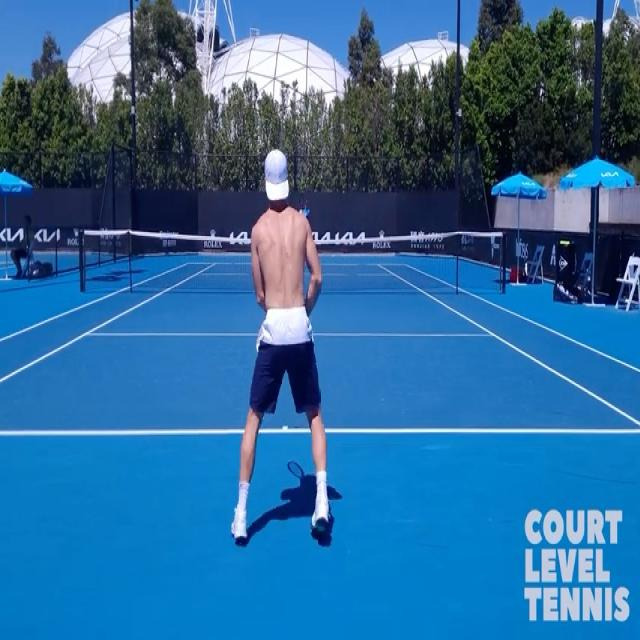ready-position: (240, 154, 334, 542)
